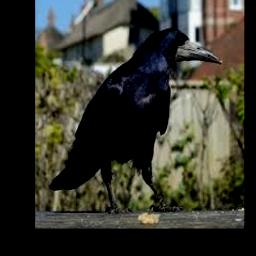Crow: (50, 25, 222, 214)
